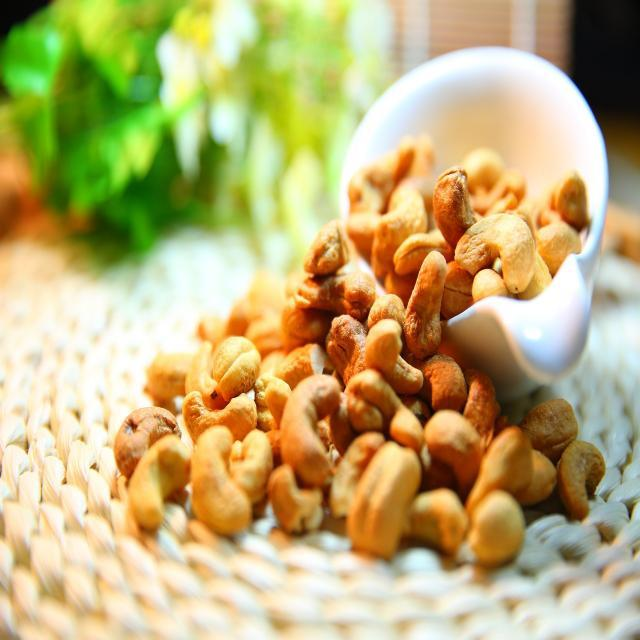Frutta secca: (112, 141, 612, 575)
